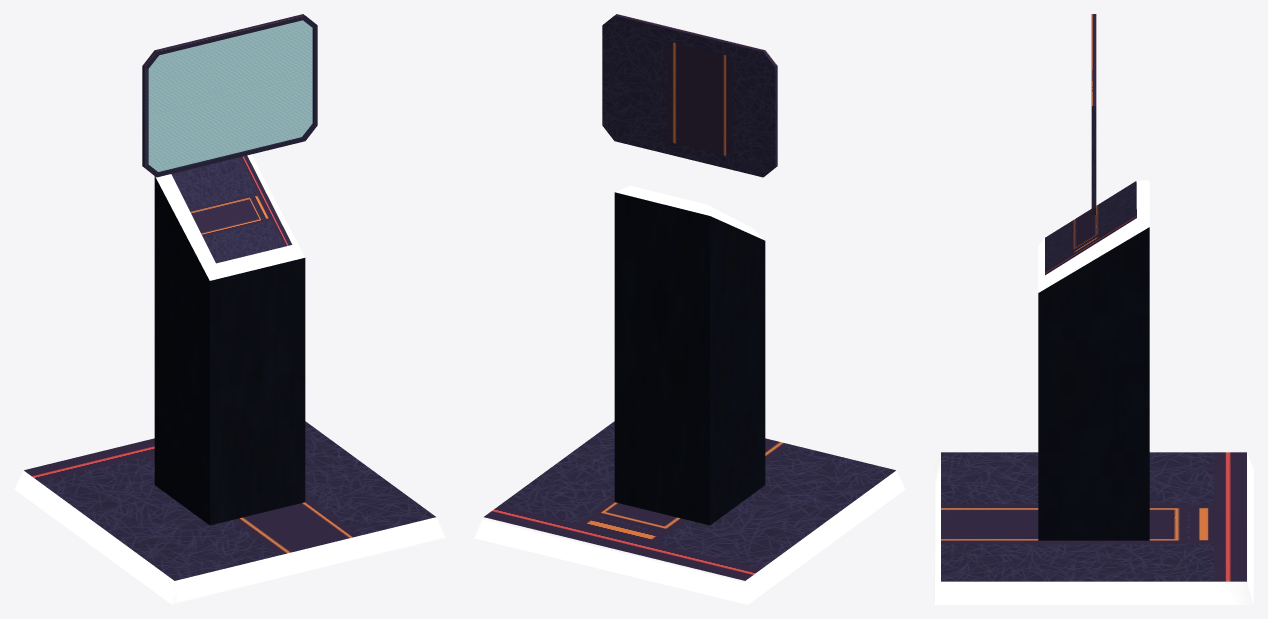
The model's file is pm-signbook.glb.
3 views of the same model, side by side, from view 1: azimuth 30°, elevation 25°; view 2: azimuth 150°, elevation 25°; view 3: azimuth 270°, elevation 25° (orthographic).
Visible parts, largest first — view 1: Signbook_Art; view 2: Signbook_Art; view 3: Signbook_Art.
Boxes of the visible parts, x1,y1,x2,y2 form: Signbook_Art: (14, 14, 445, 604); Signbook_Art: (474, 14, 905, 604); Signbook_Art: (934, 14, 1253, 604).
Size of the model in its own units: 1.03 by 1.73 by 1.03.
Materials: 5 (5 with a texture image).
